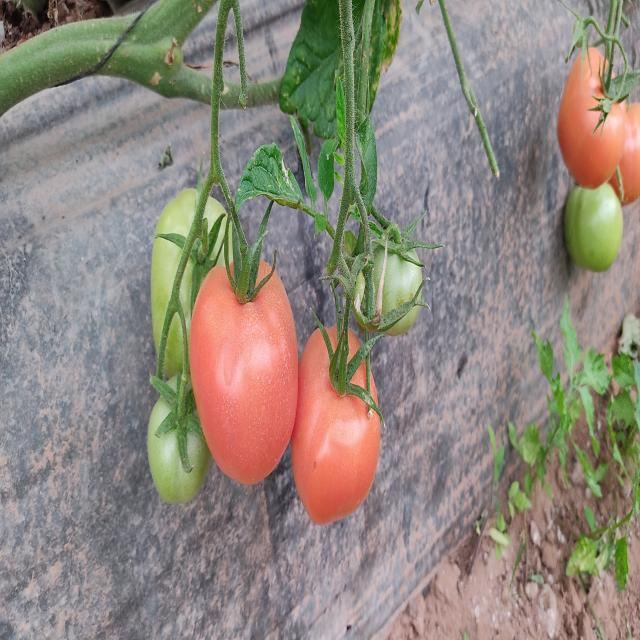Ripe Tomato: (192, 258, 298, 487), (292, 327, 386, 509)
Unripe Tomato: (154, 190, 247, 393), (141, 374, 210, 511), (560, 50, 627, 188), (351, 235, 424, 334), (563, 183, 623, 281)
